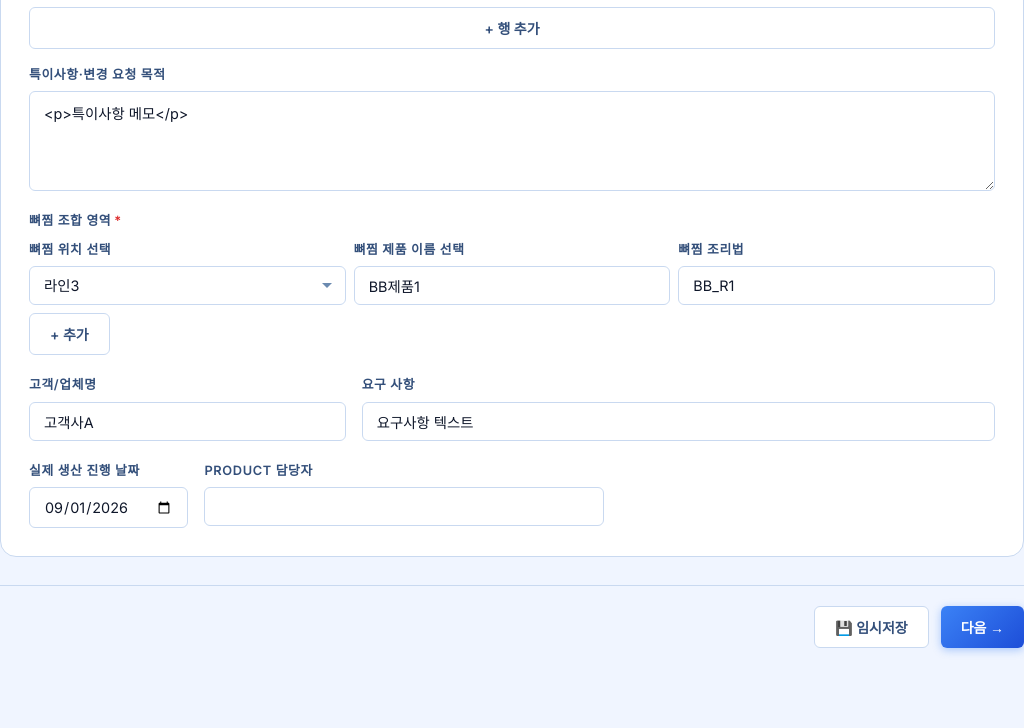
검증 오류 → 오류 위치로 이동 + 빨간 표시 › 참조 요청서 변경전/변경후 표 오류는 표 아래에 빨간 문구를 표시하고 그 블록으로 이동한다
(page scrolled)
Expected: the field showing "고객사A" below "고객/업체명" is shown, [29,402,346,441]
Click the button "다음 →". click: click(982, 627)
box: [941,606,1023,648]
(page scrolled)
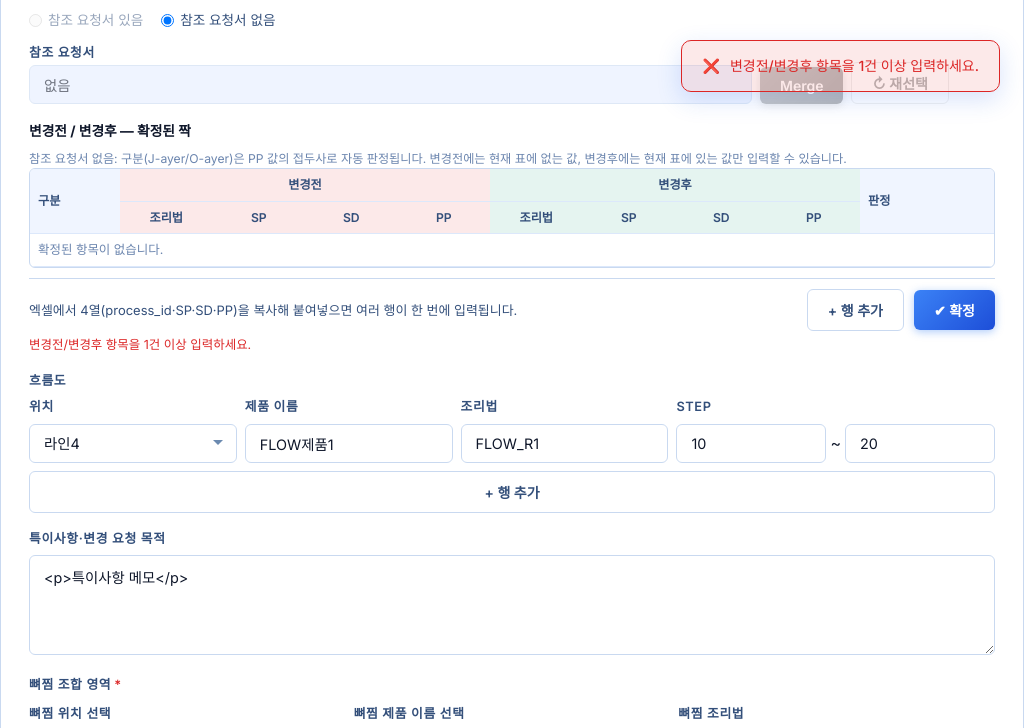
Result: the text "변경전/변경후 항목을 1건 이상 입력하세요." is shown at [29,337,251,352]
